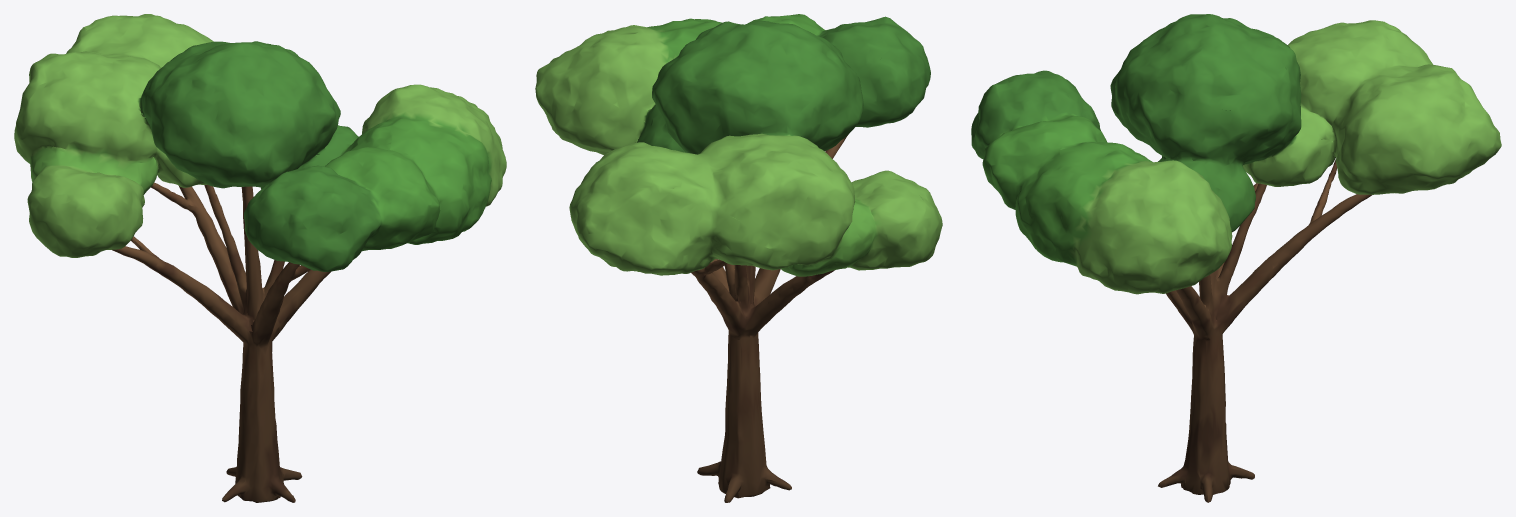
The model's file is broadleaf_mature.glb.
The picture shows the model from 3 angles, left to right: view 1: azimuth 30°, elevation 25°; view 2: azimuth 150°, elevation 25°; view 3: azimuth 270°, elevation 25°; orthographic projection. The views are drawn at different scales.
Parts seen in each view (by area): view 1: broadleaf_mature_LOD0; view 2: broadleaf_mature_LOD0; view 3: broadleaf_mature_LOD0.
Part boxes in pixels (x1,y1,x2,y2): broadleaf_mature_LOD0: (14, 14, 506, 502); broadleaf_mature_LOD0: (535, 14, 942, 502); broadleaf_mature_LOD0: (971, 14, 1501, 502).
Size of what is drawn, in the model's own units: 4.47 by 4.64 by 4.92.
